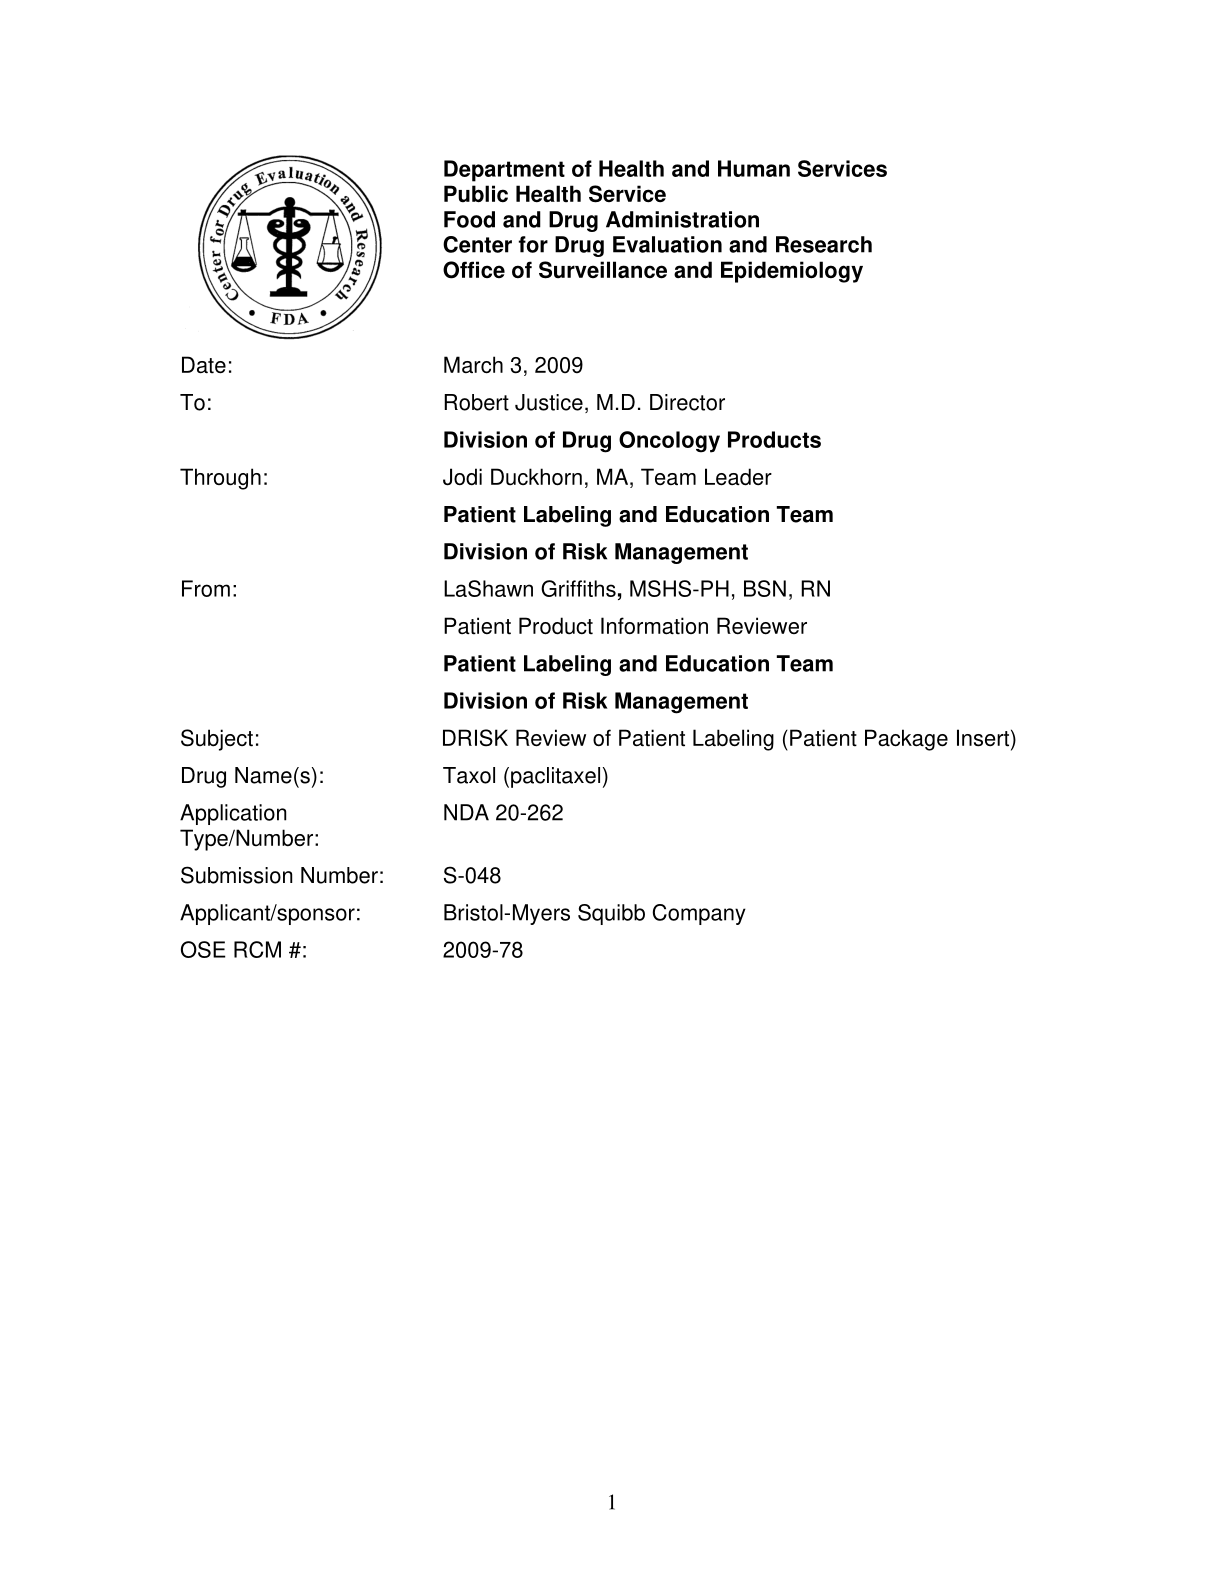nolines: (174, 345, 1023, 969)
